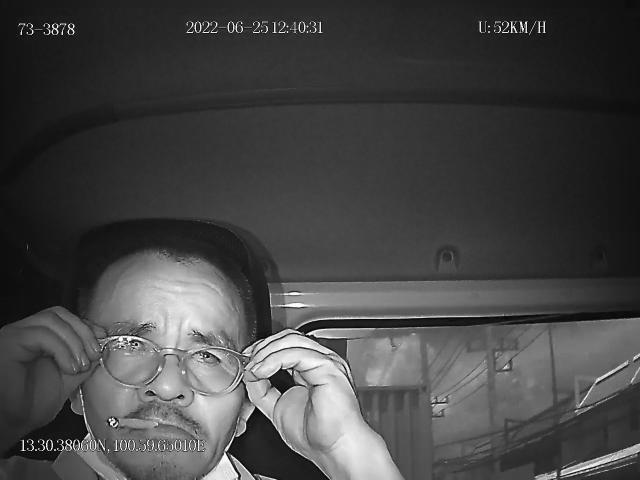SafeDriving: (182, 337, 226, 370), (110, 328, 154, 358)
Smoking: (104, 414, 160, 430)
